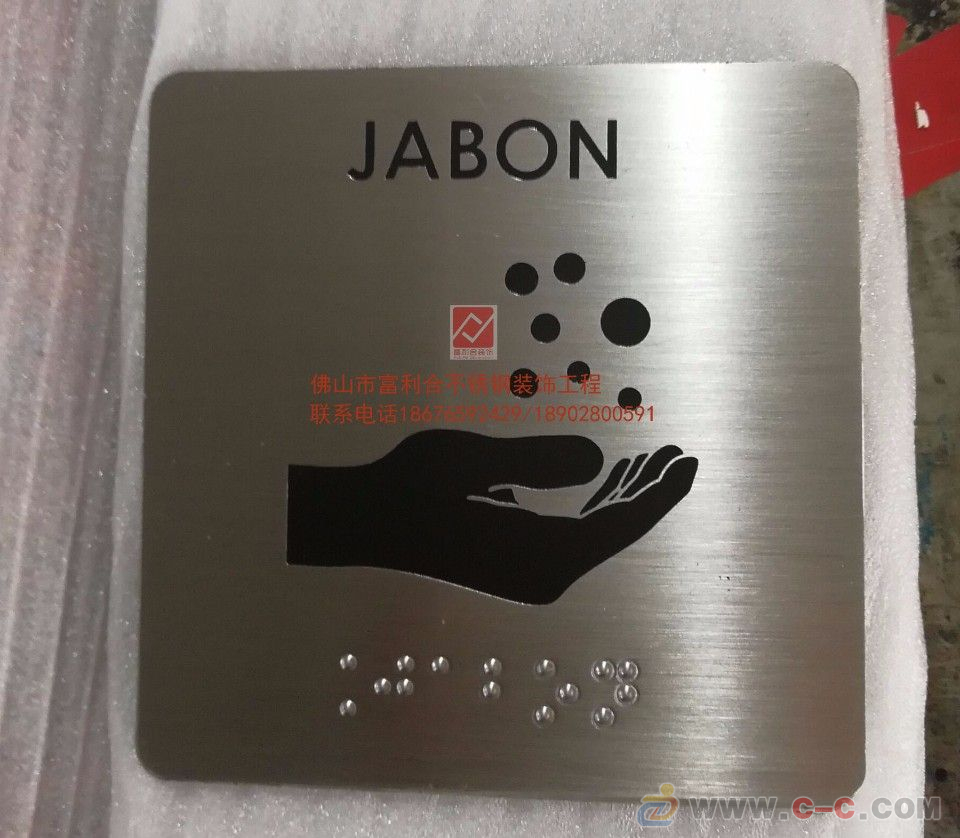Braille: (591, 658, 640, 732), (534, 656, 580, 728), (373, 652, 414, 720), (432, 652, 472, 721), (483, 655, 524, 722), (319, 652, 359, 719)
